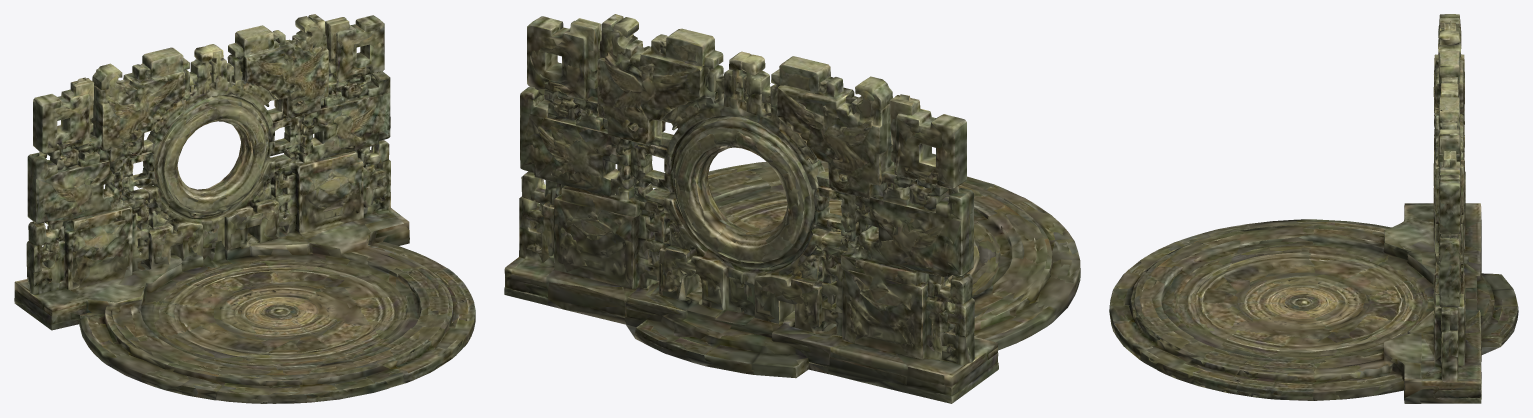
The model's file is 08-bronze-pattern.glb.
3 renders of one model, left to right at view 1: azimuth 30°, elevation 25°; view 2: azimuth 150°, elevation 25°; view 3: azimuth 270°, elevation 25°, orthographic. The views are drawn at different scales.
Parts seen in each view (by area): view 1: mesh_node; view 2: mesh_node; view 3: mesh_node.
Part boxes in pixels (box(x1,y1,x2,y2)): mesh_node: box(14, 14, 475, 403); mesh_node: box(504, 14, 1080, 403); mesh_node: box(1109, 14, 1518, 403).
Size of the model in its own units: 1.9 by 1.16 by 1.83.
Materials: 1 (1 with a texture image).
